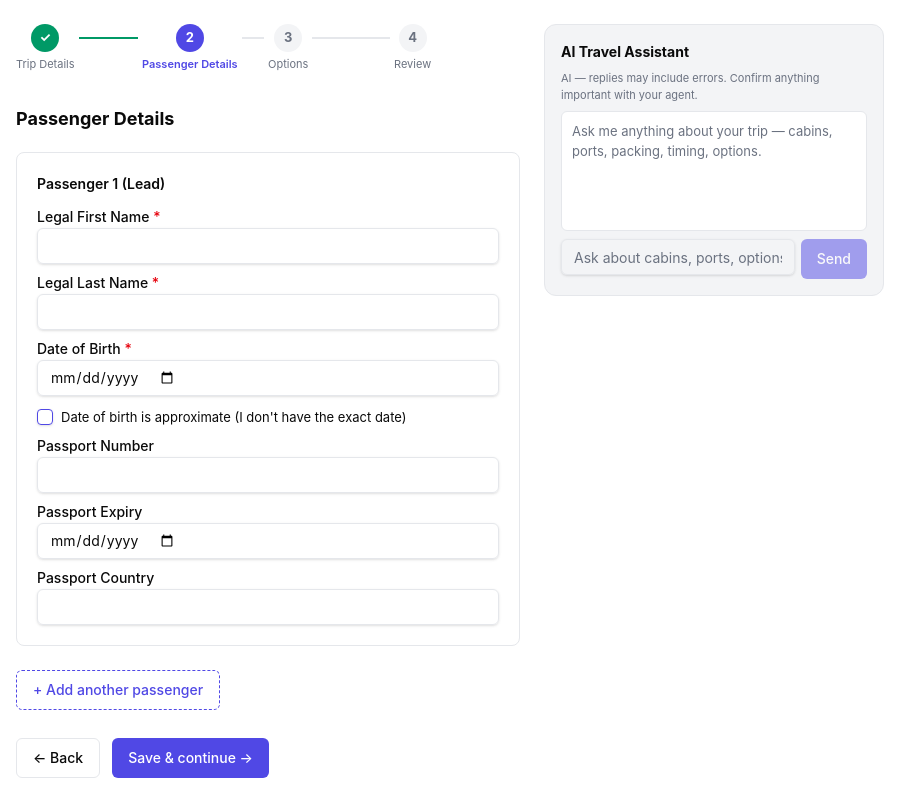
Test case: Stage2PassengerDetails — stable row keys (#1813) › keeps the same DOM node (and its typed value) attached after removing an earlier row
The width and height of the screenshot is (901, 800).
Expected: the heading "Passenger Details" is shown, top-left (16, 108), bottom-right (174, 128)
Click the button "+ Add another passenger".
click(118, 690)  # box top-left (16, 670), bottom-right (220, 710)
(page scrolled)
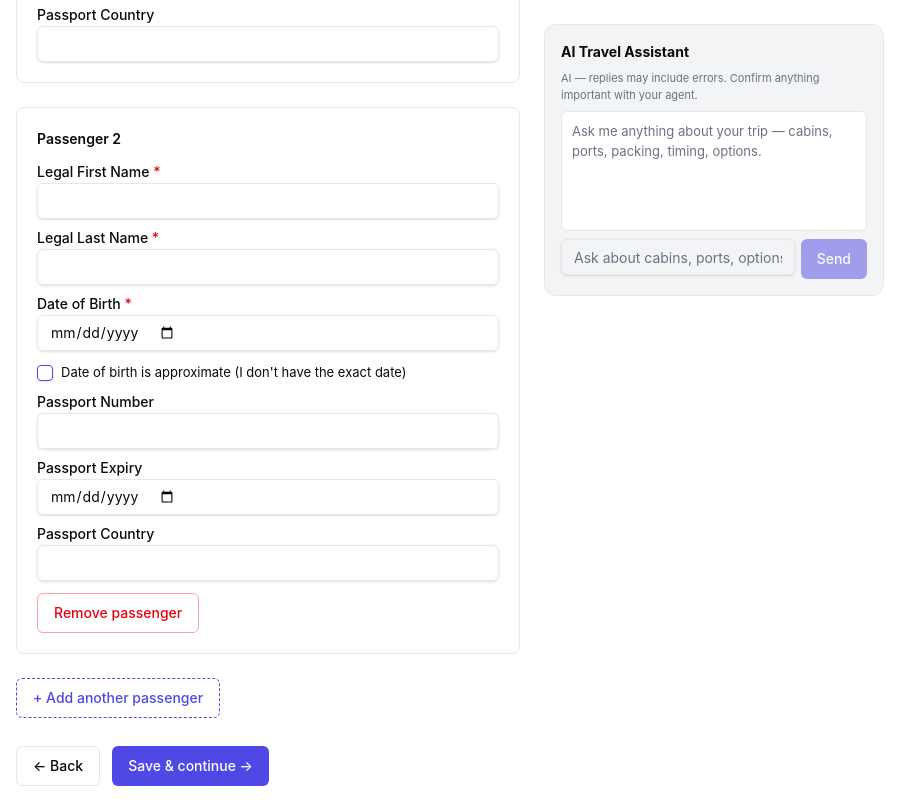
Click the button "+ Add another passenger".
click(118, 698)  # box top-left (16, 678), bottom-right (220, 718)
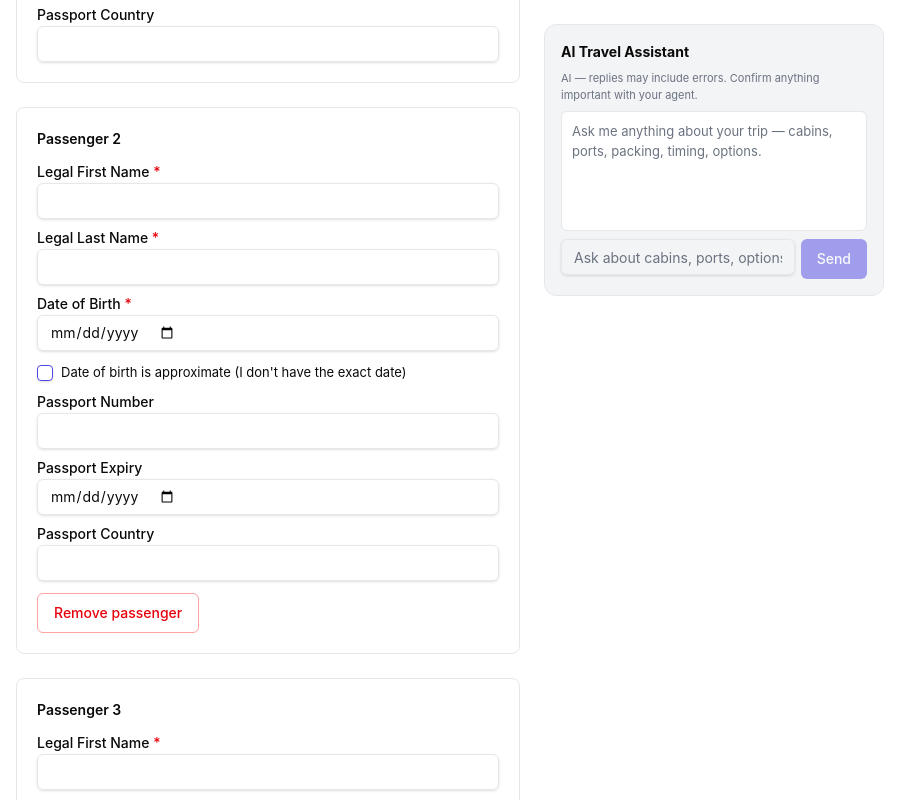
Expected: the 2nd field labelled "Legal First Name *" is shown
Type "ZKQ-DISTINCT-99" into the 2nd field labelled "Legal First Name *".
click(268, 772); type("ZKQ-DISTINCT-99")  # box top-left (37, 754), bottom-right (499, 790)
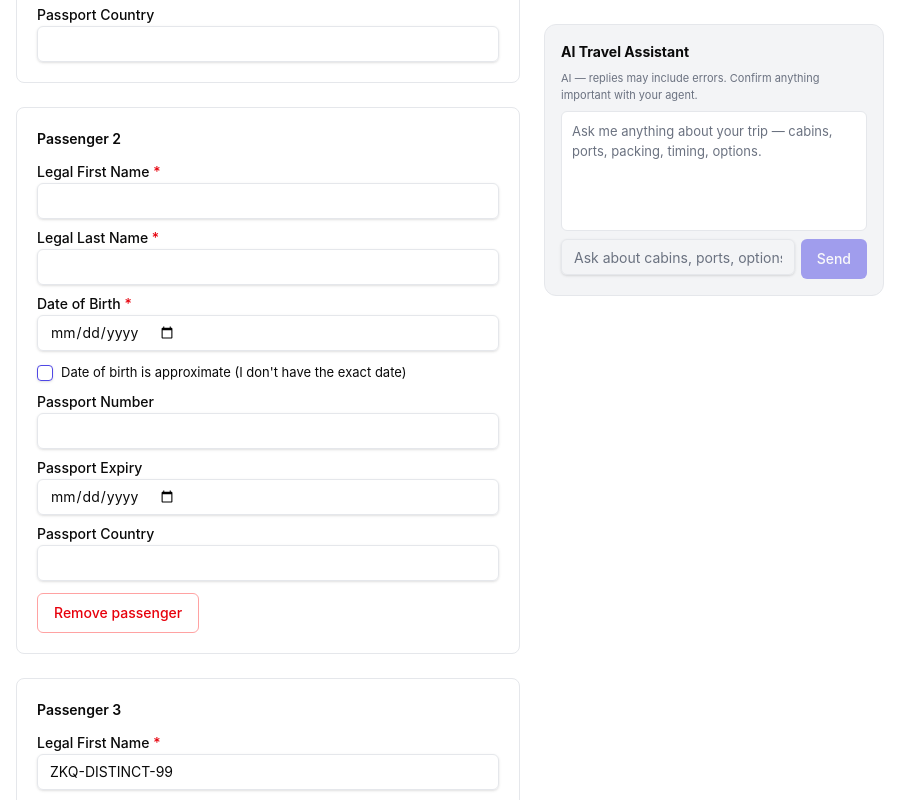
Expected: the number of buttons "Remove passenger" is 2
Click the button "Remove passenger".
click(118, 612)  # box top-left (37, 592), bottom-right (199, 632)
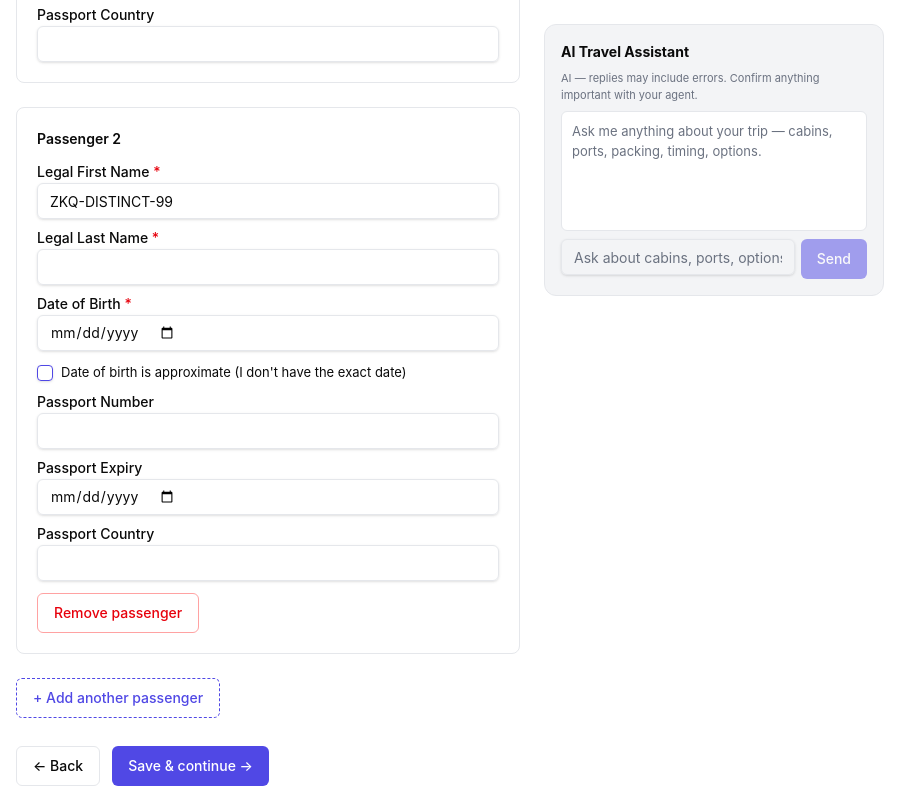
Expected: the number of buttons "Remove passenger" is 1, top-left (37, 592), bottom-right (199, 632)
